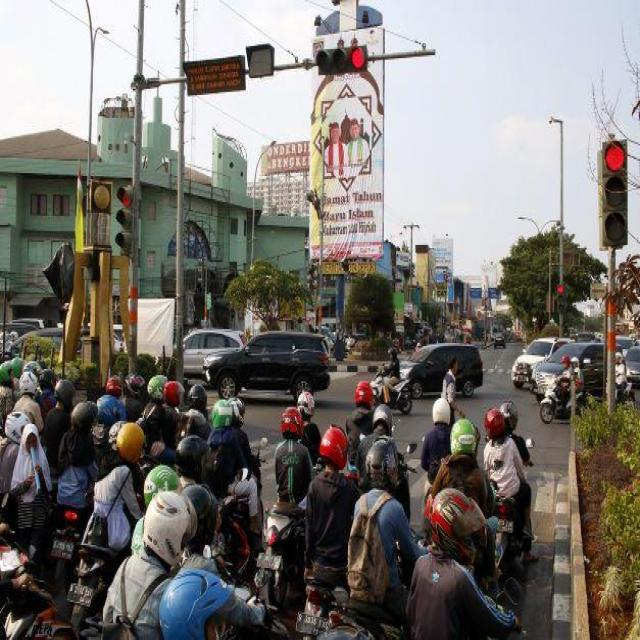red_light: (601, 138, 628, 252), (316, 51, 368, 76), (117, 184, 132, 254), (556, 283, 566, 314)
